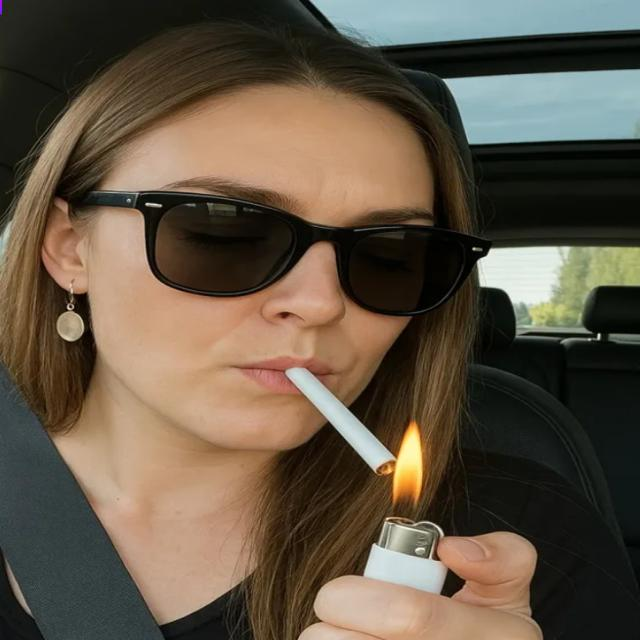fire: (393, 418, 425, 518)
